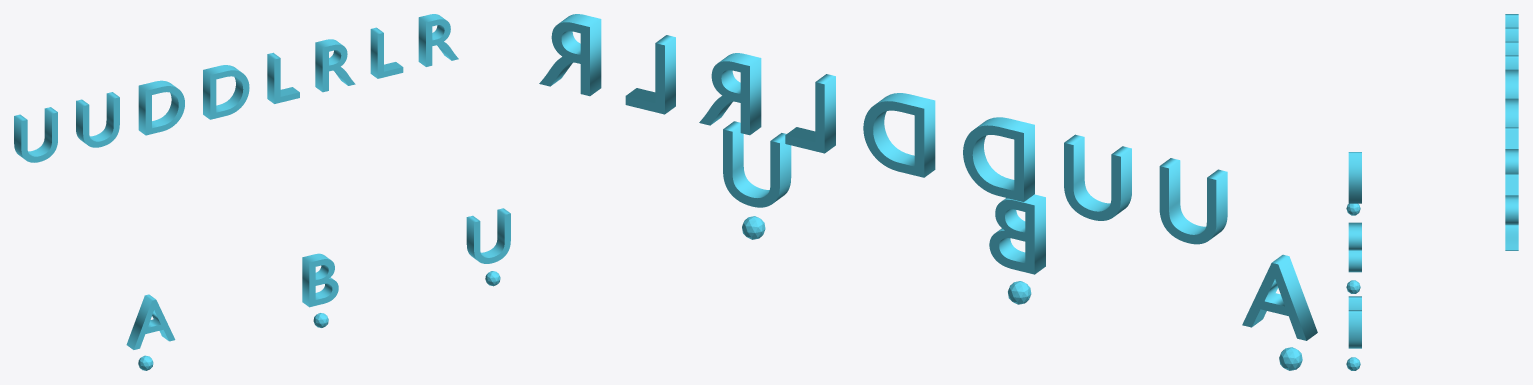
Rendered from console_test_008.fbx.
3 renders of one model, left to right at view 1: azimuth 30°, elevation 25°; view 2: azimuth 150°, elevation 25°; view 3: azimuth 270°, elevation 25°, orthographic. The views are drawn at different scales.
Parts seen in each view (by area): view 1: Txt_Test_01.023, Success.042, Failure.023, Failure.022; view 2: Txt_Test_01.023, Success.042, Failure.023, Failure.022; view 3: Txt_Test_01.023, Failure.023, Failure.022, Success.042, Untitled.015, Untitled.016, Untitled.017.
Part boxes in pixels (<box>): Txt_Test_01.023: <box>14,14,458,162</box>; Success.042: <box>302,253,338,307</box>; Failure.023: <box>466,208,510,263</box>; Failure.022: <box>126,294,175,349</box>; Txt_Test_01.023: <box>539,14,1227,244</box>; Success.042: <box>989,194,1045,274</box>; Failure.023: <box>723,121,791,207</box>; Failure.022: <box>1242,254,1317,340</box>; Txt_Test_01.023: <box>1505,14,1518,250</box>; Failure.023: <box>1348,296,1361,348</box>; Failure.022: <box>1348,152,1361,203</box>; Success.042: <box>1348,222,1361,272</box>; Untitled.015: <box>1346,357,1360,370</box>; Untitled.016: <box>1346,280,1360,293</box>; Untitled.017: <box>1346,203,1360,215</box>.
Size of the model in its own units: 1.62 by 0.7021 by 0.6007.
